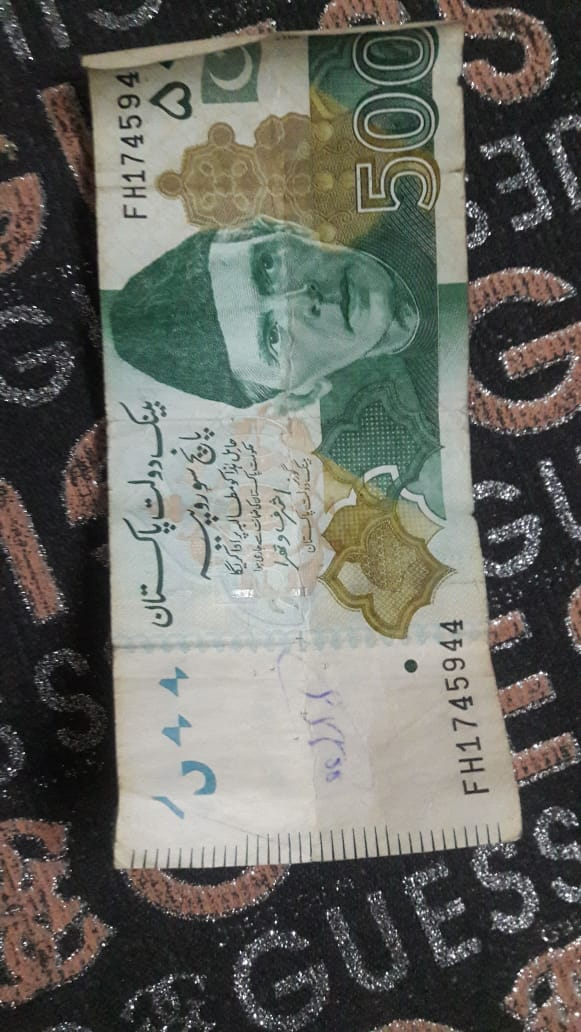500 rupee: (67, 18, 517, 927)
